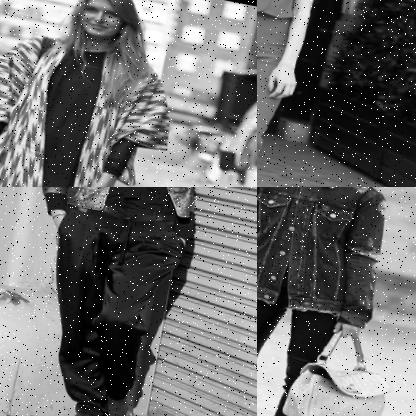dress: (0, 20, 186, 187)
jacket: (257, 187, 399, 330), (33, 187, 215, 241)
pants: (24, 190, 188, 416), (257, 283, 349, 416), (257, 0, 300, 187)
